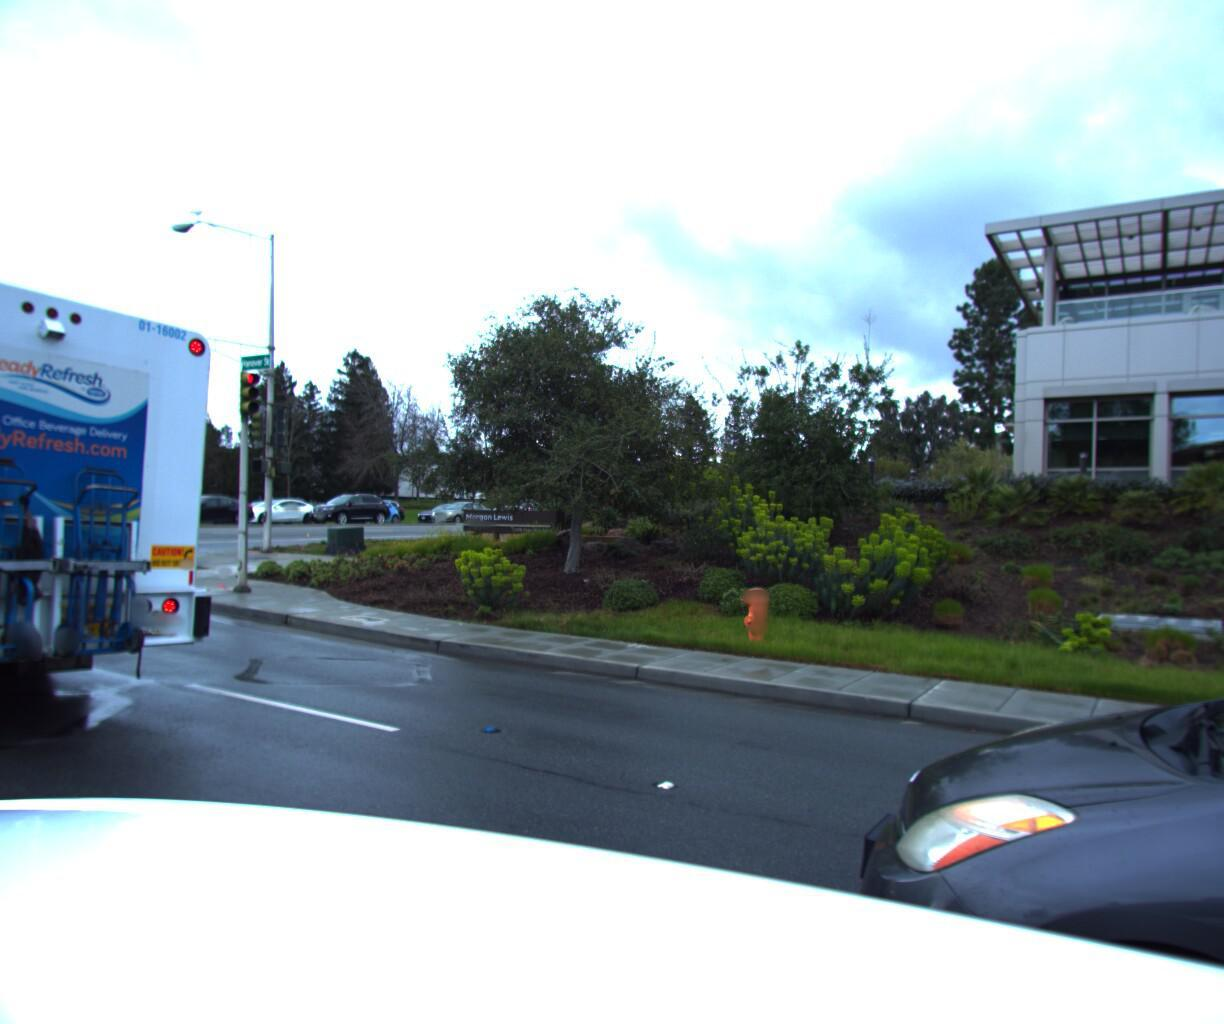car: (296, 489, 387, 528), (220, 494, 316, 528), (421, 500, 494, 527), (406, 503, 476, 527)
